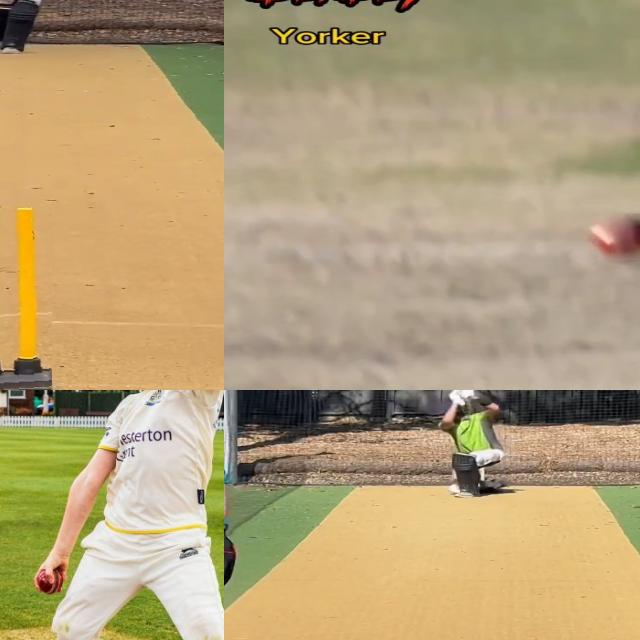Cricket ball: (587, 213, 640, 262), (33, 562, 67, 598)
Stumps: (0, 206, 52, 390)
